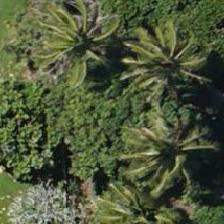coconut_tree: (113, 17, 203, 107), (126, 105, 216, 195), (33, 0, 123, 87), (78, 175, 168, 223)
